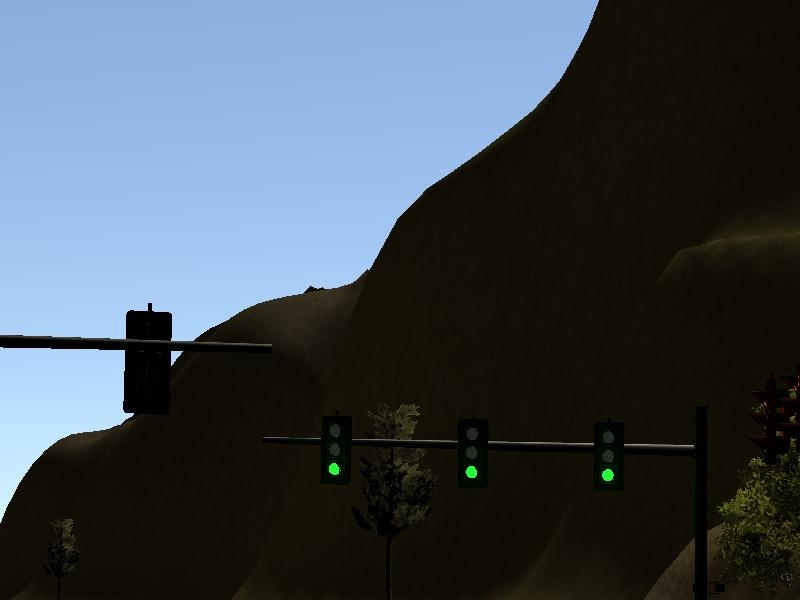green: (594, 422, 627, 493), (458, 420, 488, 489), (321, 417, 351, 486)
